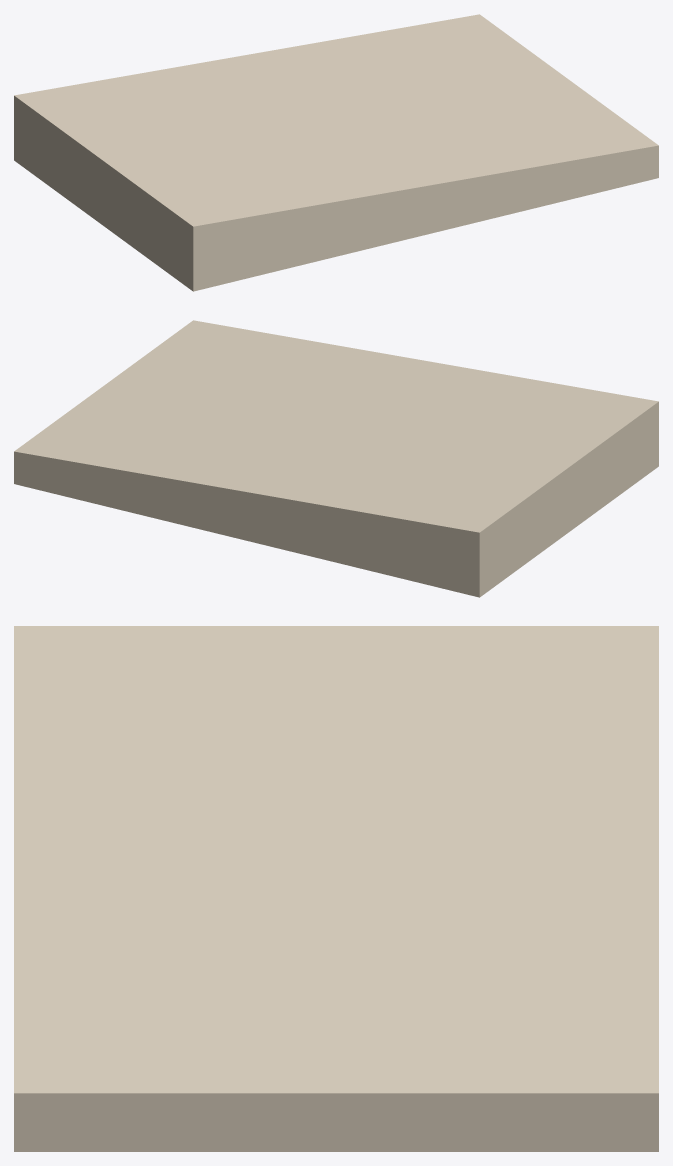
Rendered from Dirt_Fading_from_Gathered.glb.
3 renders of one model, top to bottom at view 1: azimuth 30°, elevation 25°; view 2: azimuth 150°, elevation 25°; view 3: azimuth 270°, elevation 25°, orthographic. The views are drawn at different scales.
Parts seen in each view (by area): view 1: object1; view 2: object1; view 3: object1.
Boxes of the visible parts, x1,y1,x2,y2 form: object1: (14,14,658,291); object1: (14,320,658,597); object1: (14,626,658,1151).
Size of the model in its own units: 1.5 by 0.2 by 1.
